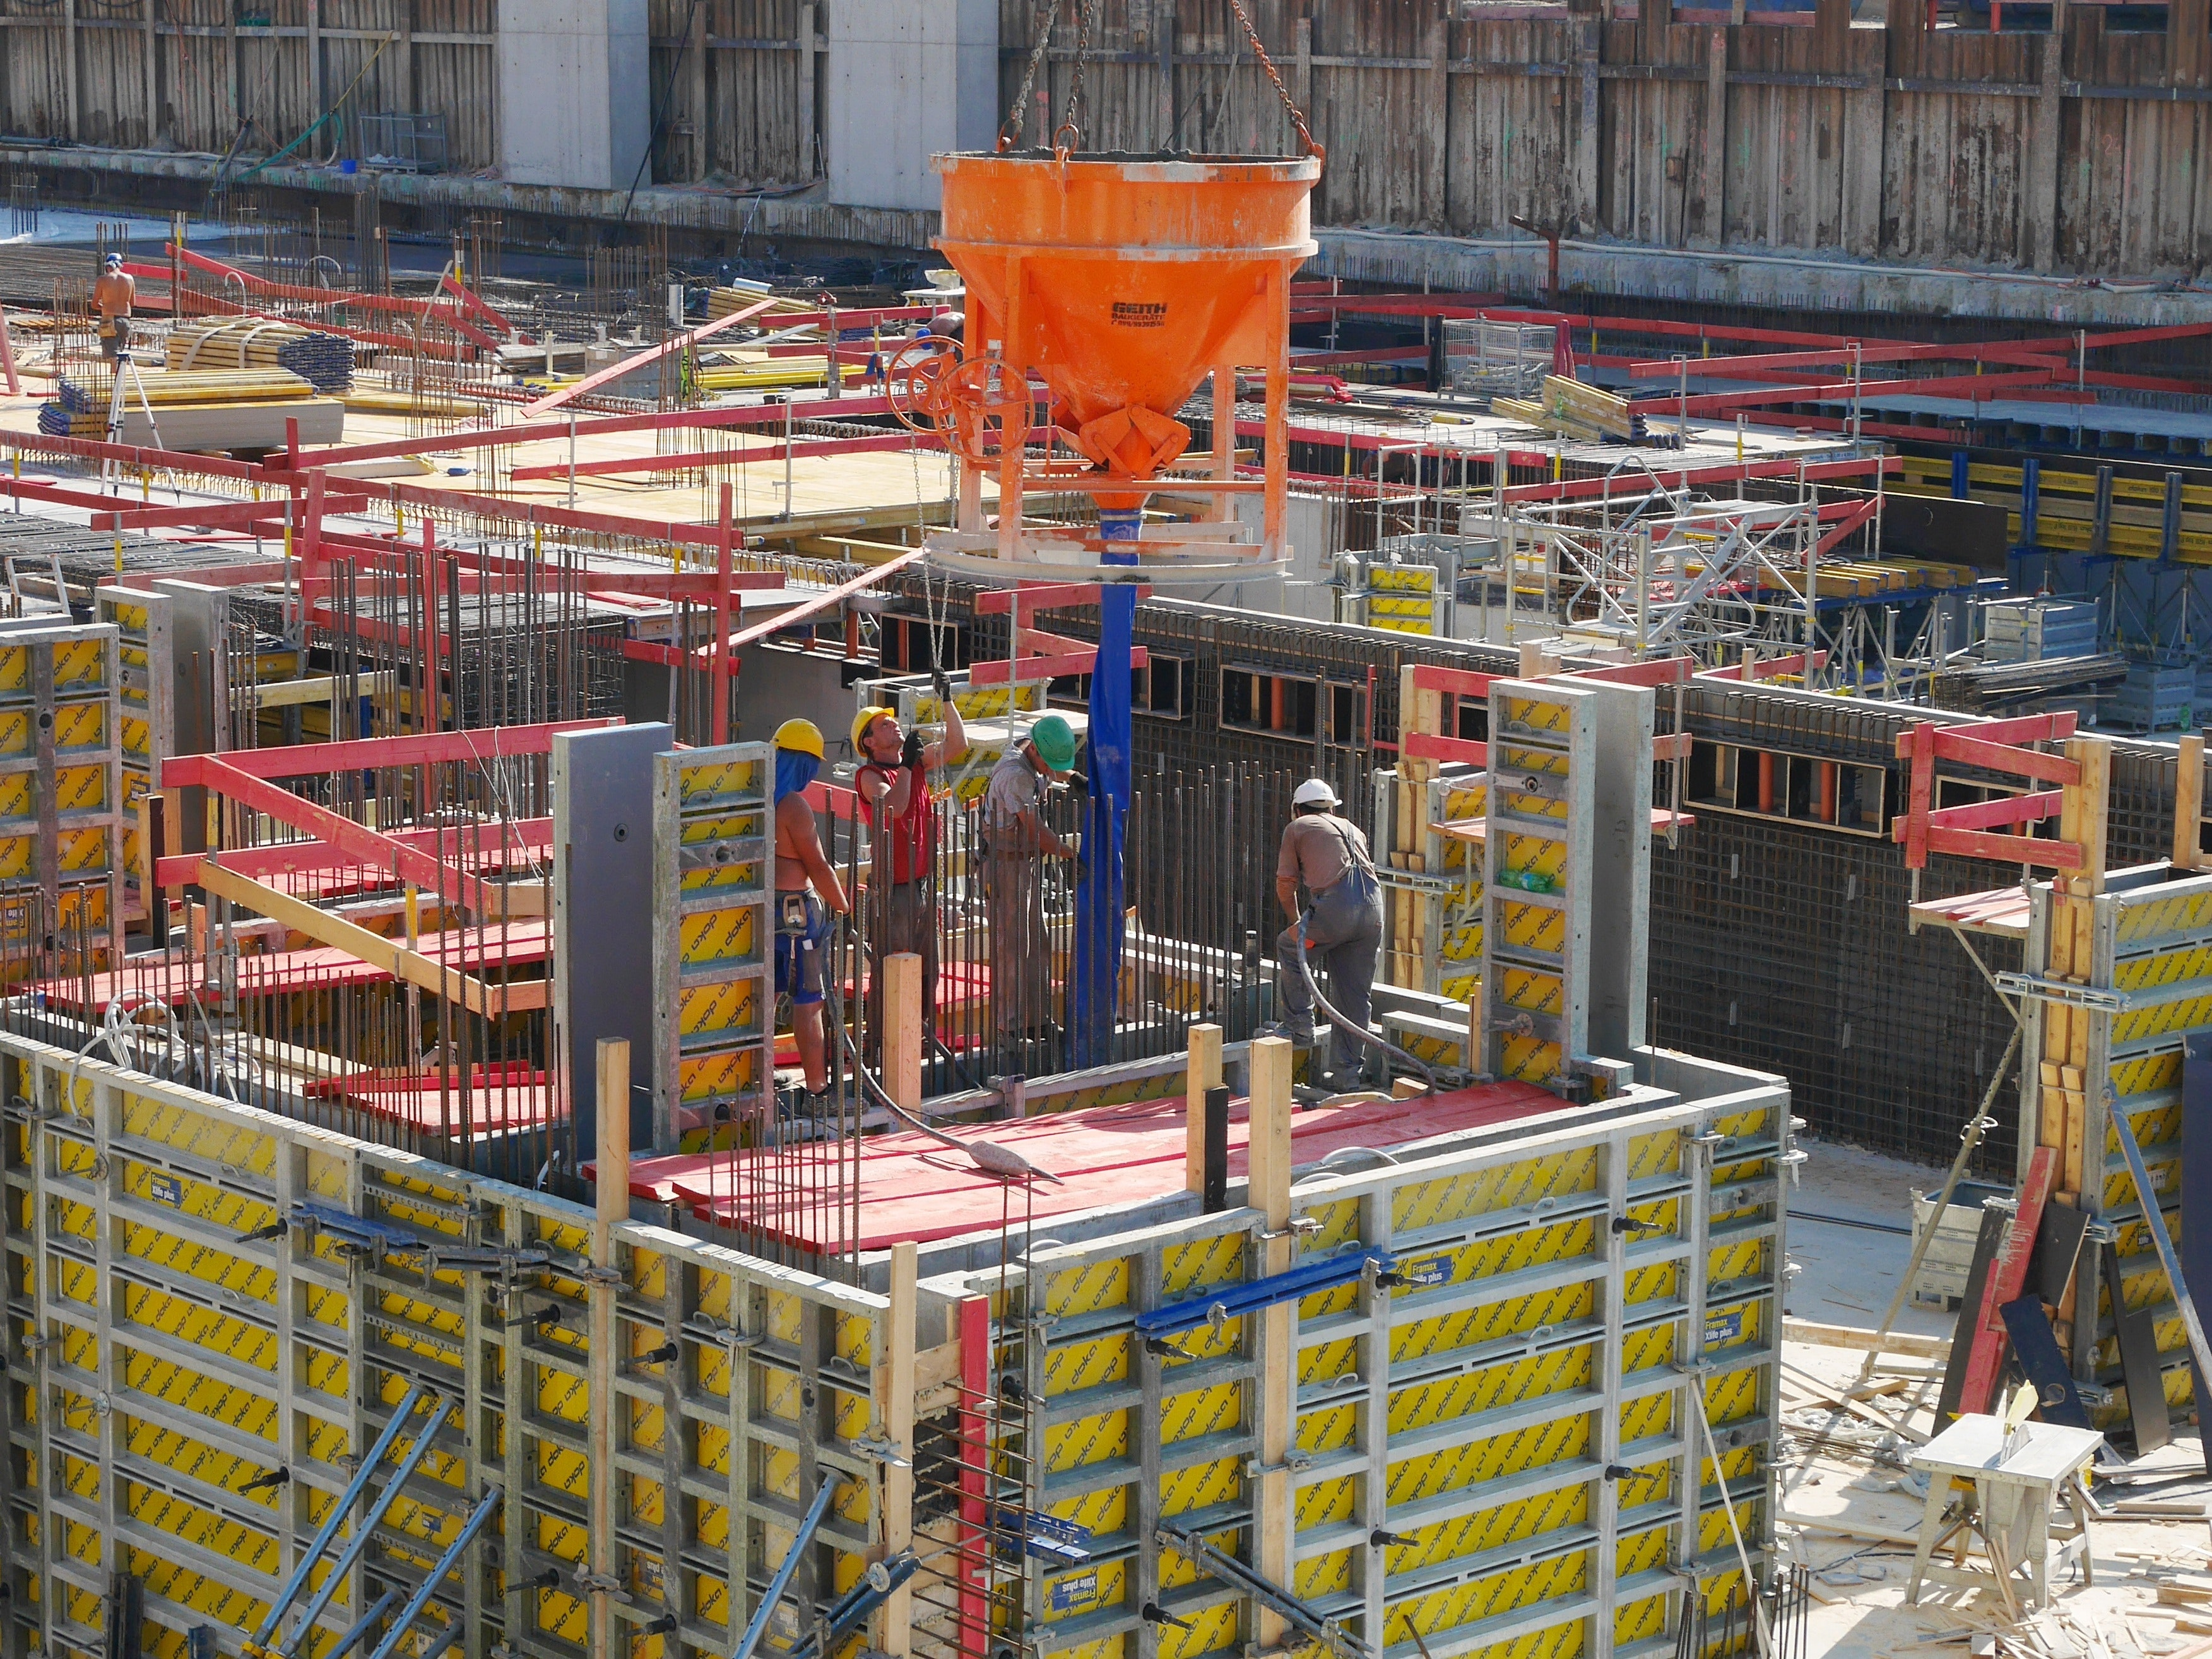blue: (103, 251, 124, 275)
white: (1288, 779, 1335, 821)
yellow: (770, 716, 823, 789), (851, 704, 906, 765)
